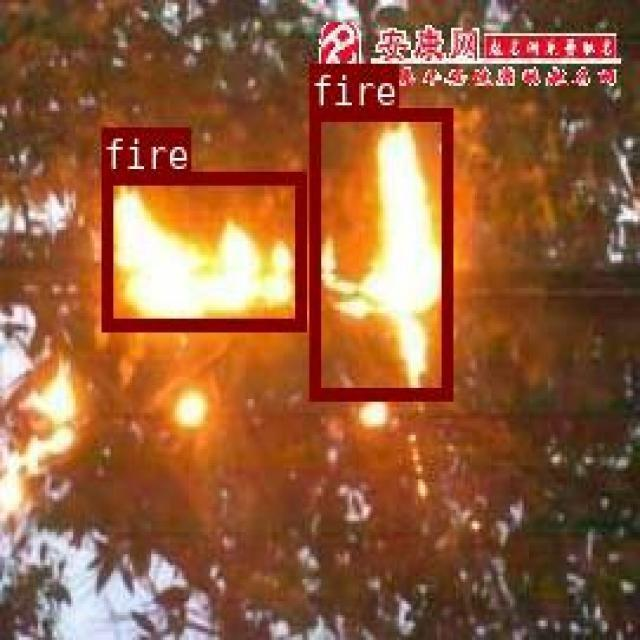fire: (308, 107, 449, 399), (100, 170, 304, 327)
